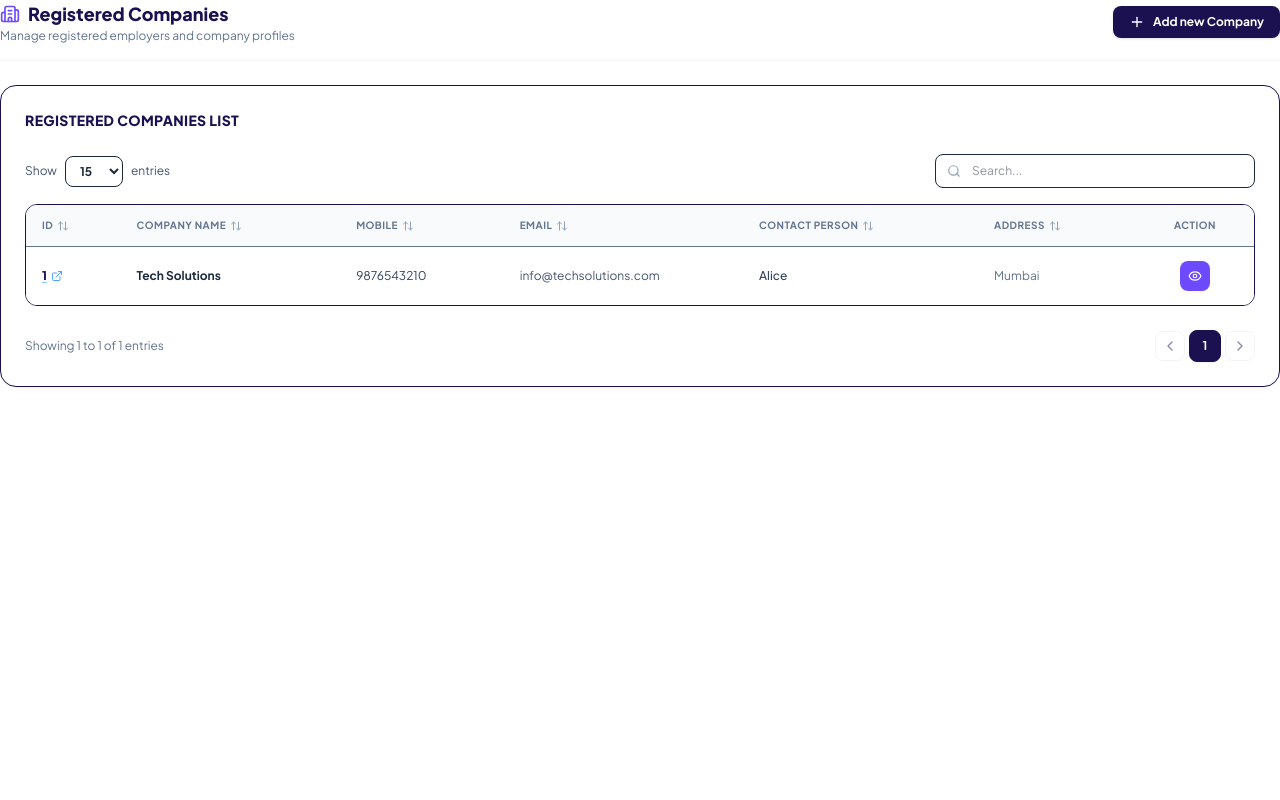
Test case: AdminRegisteredCompanies › renders companies list and opens detail modal
Expected: the text "Tech Solutions" is shown, top-left (120, 247), bottom-right (340, 305)
Click the button titled "View Profile": (1195, 276) top-left (1180, 261), bottom-right (1210, 291)
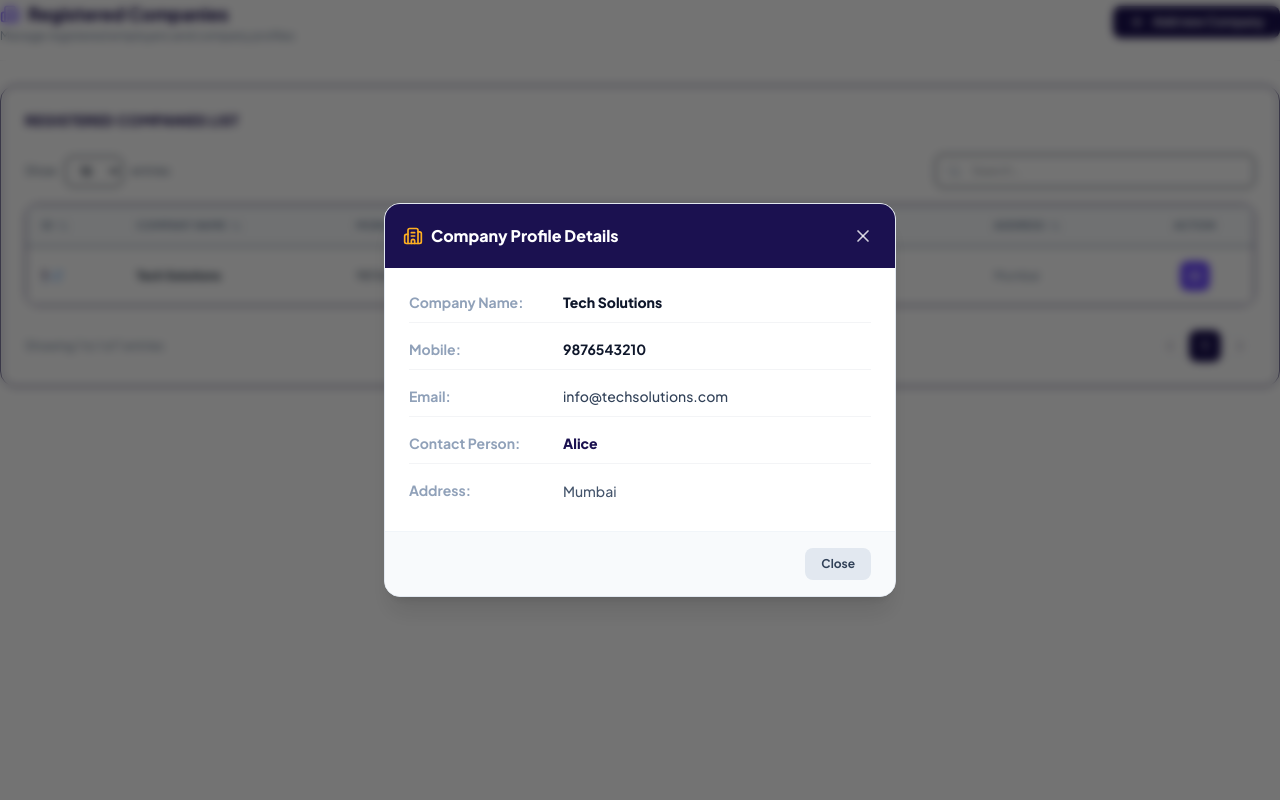
Result: the heading "Company Profile Details" is shown at top-left (431, 224), bottom-right (619, 248)
